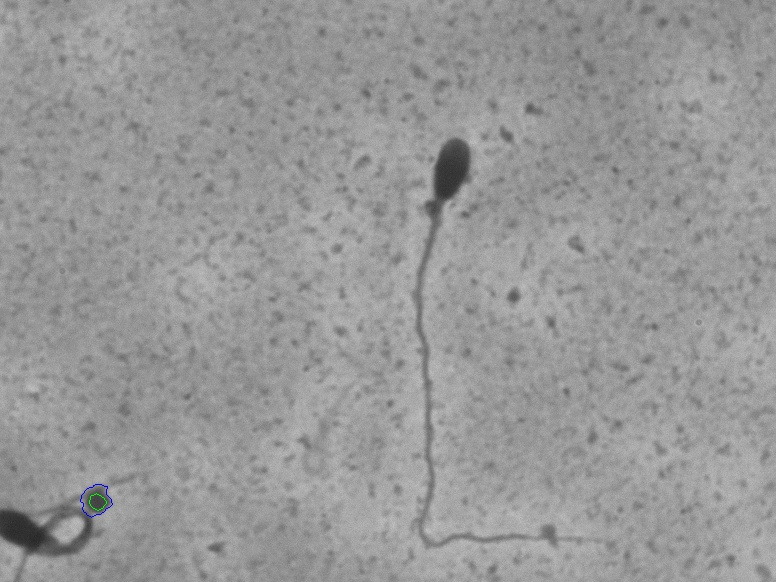Normal: (331, 104, 639, 578)
